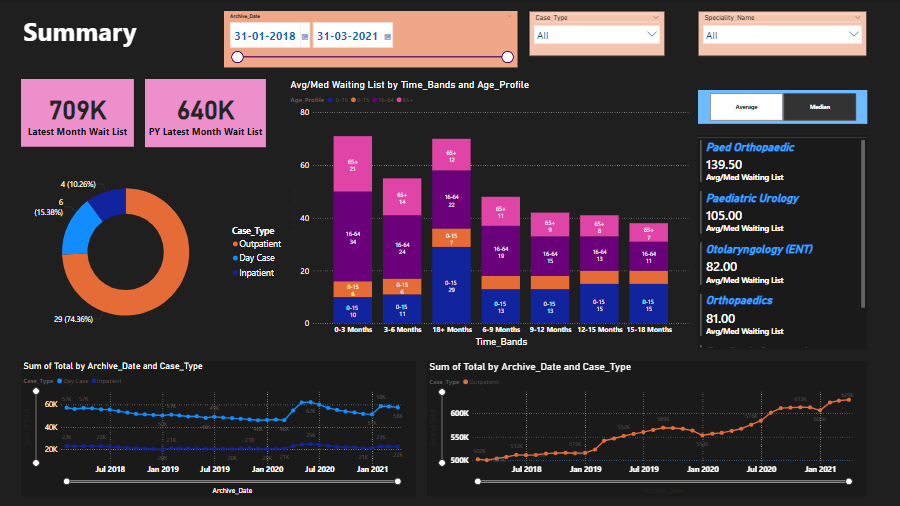

This screenshot's page, from the dashboard's own definition file:
{"tool":"powerbi","page":{"name":"Summary","canvas":[1920,1080],"ordinal":0},"visuals":[{"type":"card","fields":{"Values":["All_Data.Latest Month Wait List"]},"box":[48,168,240,144],"z":0},{"type":"card","fields":{"Values":["All_Data.PY Latest Month Wait List"]},"box":[312.5,168,257.2,144.6],"z":1000},{"type":"slicer","fields":{"Values":["Calculation Method.Calc Method"]},"box":[1488,192,360,72],"z":2000},{"type":"donutChart","fields":{"Category":["All_Data.Case_Type"],"Y":["All_Data.Avg/Med Waiting List"]},"box":[40.5,331,576,408],"z":3000},{"type":"columnChart","fields":{"Y":["All_Data.Avg/Med Waiting List"],"Category":["All_Data.Time_Bands"],"Series":["All_Data.Age_Profile"]},"box":[616.5,168,856.8,574],"z":4000},{"type":"multiRowCard","fields":{"Values":["All_Data.Avg/Med Waiting List","All_Data.Speciality_Name"]},"box":[1488,288,360,456],"z":5000},{"type":"lineChart","fields":{"Category":["All_Data.Archive_Date"],"Y":["Sum(All_Data.Total)"],"Series":["All_Data.Case_Type"]},"box":[48,768,840,288],"z":6000},{"type":"lineChart","fields":{"Category":["All_Data.Archive_Date"],"Y":["Sum(All_Data.Total)"],"Series":["All_Data.Case_Type"]},"box":[912,768,936,288],"z":7000},{"type":"slicer","fields":{"Values":["All_Data.Archive_Date"]},"box":[480,24,624,120],"z":8000},{"type":"slicer","fields":{"Values":["All_Data.Case_Type"]},"box":[1128.9,23.4,289.1,95.7],"z":9000},{"type":"textbox","box":[48,24,336,96],"z":10000},{"type":"slicer","fields":{"Values":["All_Data.Speciality_Name"]},"box":[1488.2,23.4,359.3,95.7],"z":11000}]}

Visuals, with their boxes in screenshot pixels (x1, y1, x2, y2), scaled from the page's 1920x1080 canvas onto the 900x506 screenshot:
card - All_Data.Latest Month Wait List: locate(22, 79, 135, 146)
card - All_Data.PY Latest Month Wait List: locate(146, 79, 267, 146)
slicer - Calculation Method.Calc Method: locate(698, 90, 866, 124)
donutChart - All_Data.Case_Type x All_Data.Avg/Med Waiting List: locate(19, 155, 289, 346)
columnChart - All_Data.Avg/Med Waiting List x All_Data.Time_Bands: locate(289, 79, 691, 348)
multiRowCard - All_Data.Avg/Med Waiting List x All_Data.Speciality_Name: locate(698, 135, 866, 349)
lineChart - All_Data.Archive_Date x Sum(All_Data.Total): locate(22, 360, 416, 495)
lineChart - All_Data.Archive_Date x Sum(All_Data.Total): locate(428, 360, 866, 495)
slicer - All_Data.Archive_Date: locate(225, 11, 518, 67)
slicer - All_Data.Case_Type: locate(529, 11, 665, 56)
textbox: locate(22, 11, 180, 56)
slicer - All_Data.Speciality_Name: locate(698, 11, 866, 56)
